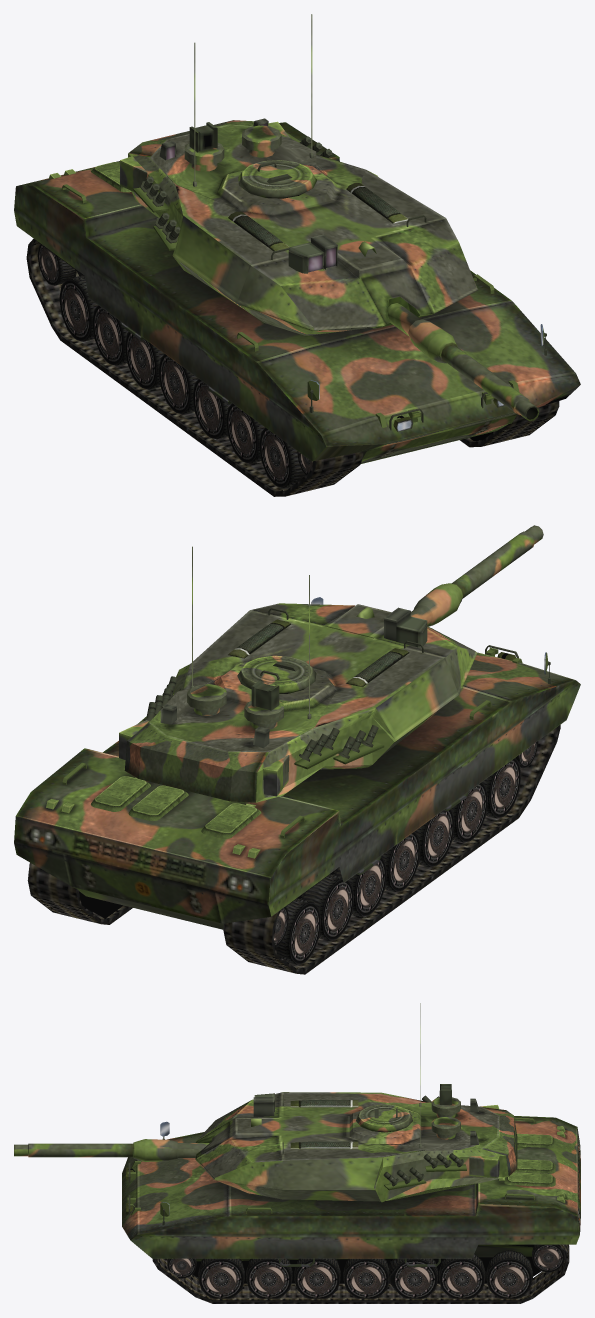
Rendered from Germany_tank.FBX.
3 renders of one model, top to bottom at view 1: azimuth 30°, elevation 25°; view 2: azimuth 150°, elevation 25°; view 3: azimuth 270°, elevation 25°, orthographic. The views are drawn at different scales.
Parts seen in each view (by area): view 1: headusOBJexport, Object04, Object05, Object03, Object13, Object07, Object10, Object08, Object11, Object12, Object09, Object01 (+1 smaller); view 2: headusOBJexport, Object04, Object05, Object03, Object01, Object12, Object13, Object09, Object10, Object07, Object11, Object08; view 3: headusOBJexport, Object04, Object01, Object03, Object16, Object18, Object17, Object22, Object19, Object21, Object20, Object15 (+1 smaller).
Boxes of the visible parts, <box> form: headusOBJexport: <box>14,122,580,463</box>; Object04: <box>120,14,477,335</box>; Object05: <box>26,238,363,496</box>; Object03: <box>388,303,539,421</box>; Object13: <box>59,275,98,341</box>; Object07: <box>259,427,305,487</box>; Object10: <box>158,354,198,414</box>; Object08: <box>226,403,264,463</box>; Object11: <box>125,332,164,389</box>; Object12: <box>92,305,128,365</box>; Object09: <box>192,379,230,439</box>; Object01: <box>460,401,559,447</box>; headusOBJexport: <box>14,597,580,929</box>; Object04: <box>119,546,477,802</box>; Object05: <box>223,725,560,974</box>; Object03: <box>410,525,543,626</box>; Object01: <box>27,862,132,924</box>; Object12: <box>300,874,354,940</box>; Object13: <box>275,898,321,964</box>; Object09: <box>414,809,454,866</box>; Object10: <box>381,831,420,891</box>; Object07: <box>482,758,521,818</box>; Object11: <box>333,857,386,916</box>; Object08: <box>451,782,488,842</box>; headusOBJexport: <box>122,1116,580,1283</box>; Object04: <box>195,1003,517,1202</box>; Object01: <box>152,1244,569,1303</box>; Object03: <box>14,1139,209,1161</box>; Object16: <box>486,1250,532,1298</box>; Object18: <box>387,1258,438,1298</box>; Object17: <box>439,1253,485,1298</box>; Object22: <box>198,1258,244,1298</box>; Object19: <box>343,1258,388,1298</box>; Object21: <box>246,1258,292,1298</box>; Object20: <box>294,1258,340,1298</box>; Object15: <box>532,1244,564,1272</box>.
Size of the model in its own units: 214 by 572 by 267.
Materials: 1 (1 with a texture image).
